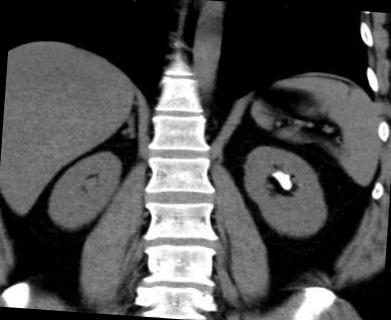Tas_Var: (268, 169, 296, 194)
